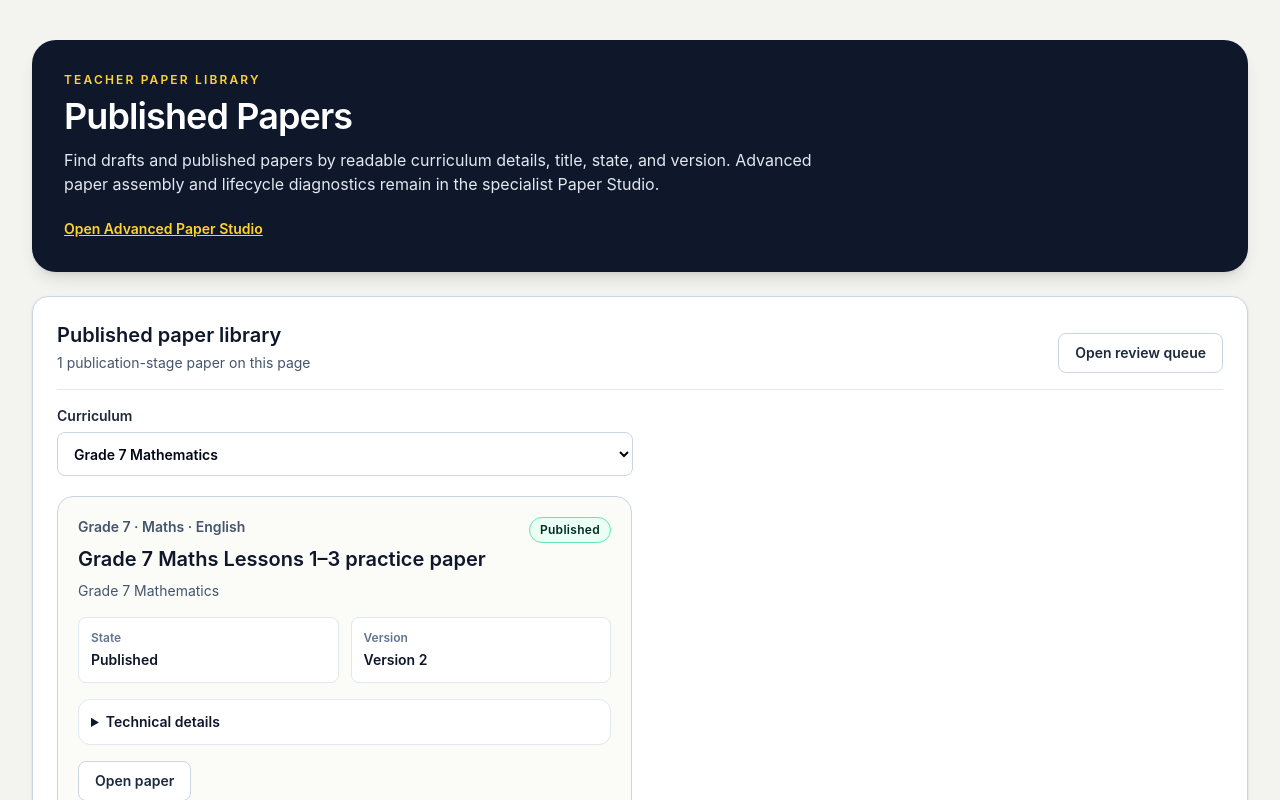
it: PublishedPapersLibrary › keeps paper and curriculum identifiers collapsed as technical details
Expected: the heading "Published Papers" is shown, [64,94,352,138]
Expected: the text "00000000-0000-0000-0000-000000001006" is not shown
Click the heading "Technical details".
click(163, 722)  # box [106,713,220,730]
(page scrolled)
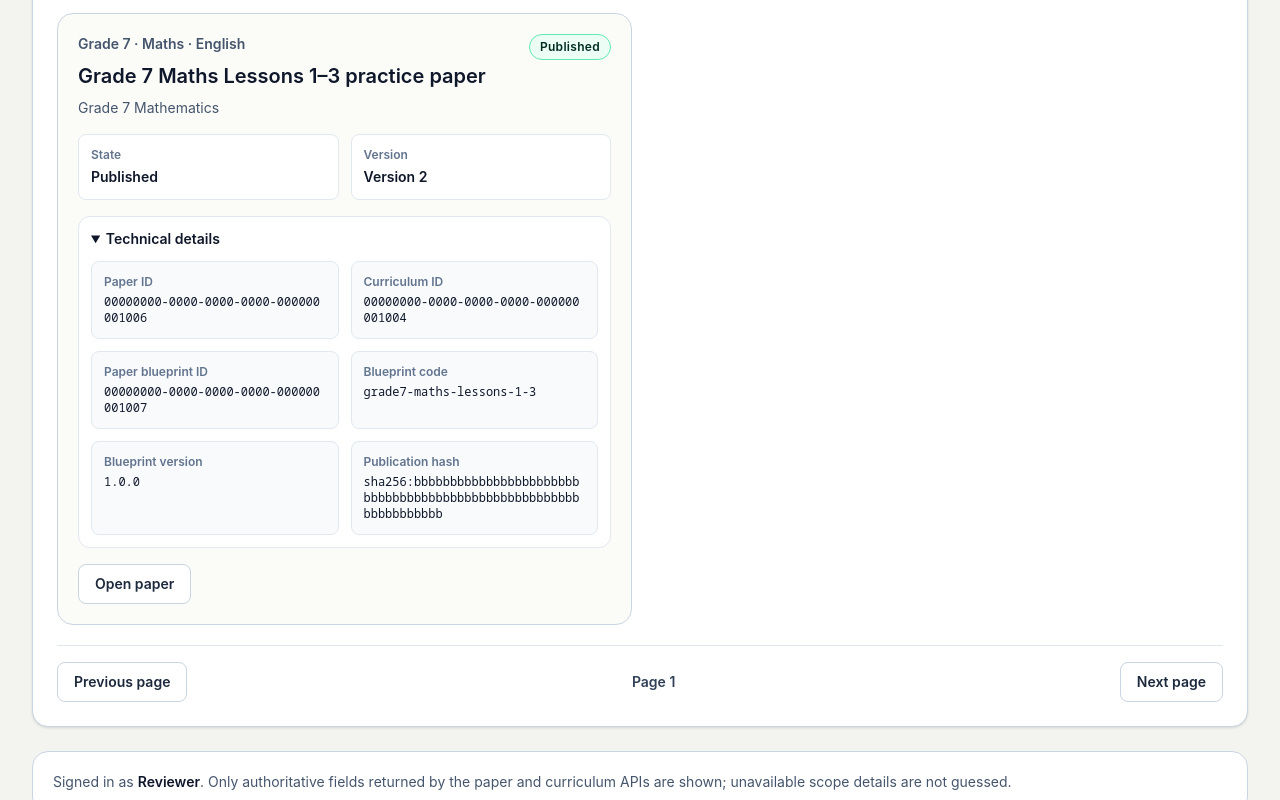
Expected: the text "00000000-0000-0000-0000-000000001006" is shown, [104,294,326,326]
Expected: the text "00000000-0000-0000-0000-000000001004" is shown, [364,294,585,326]
Expected: the text "00000000-0000-0000-0000-000000001007" is shown, [104,384,326,416]
